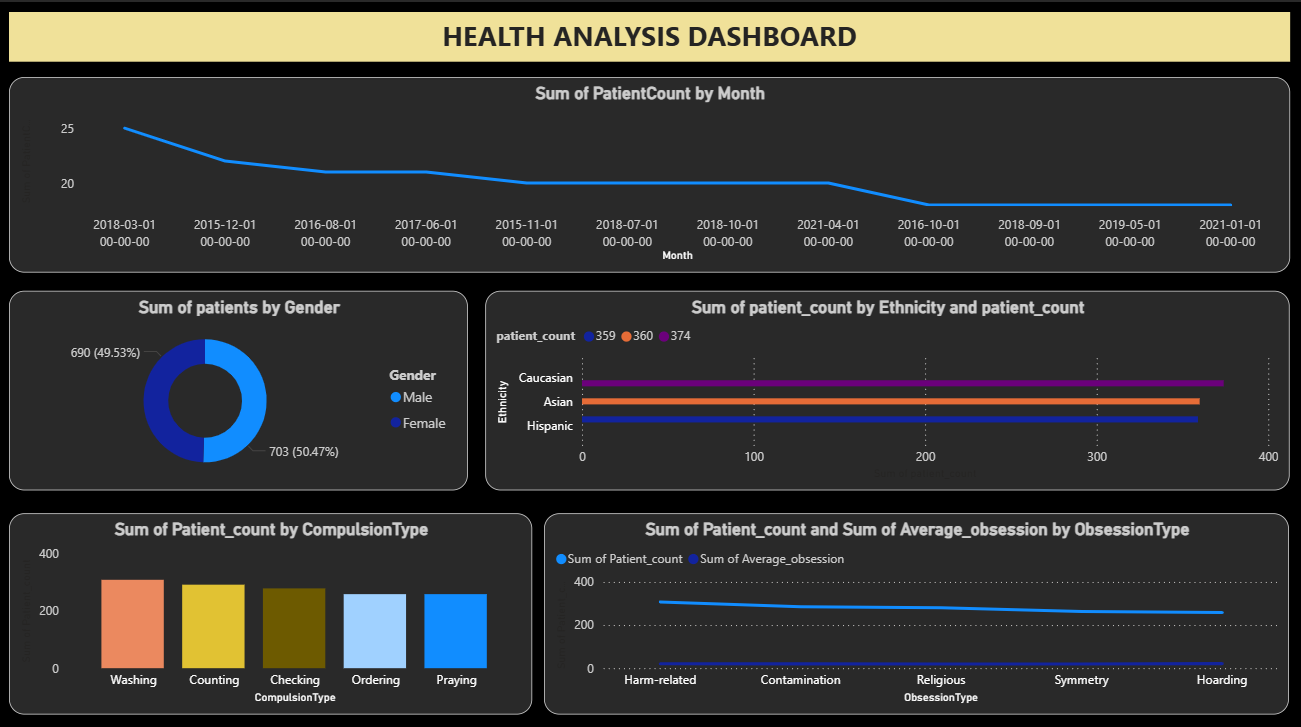

Layout of this report page (visuals, bound fields, positions):
{"tool":"powerbi","page":{"name":"Page 1","canvas":[1280,720],"ordinal":0},"visuals":[{"type":"textbox","box":[0,0,1280,48.6],"z":0},{"type":"lineChart","fields":{"Category":["diagnosis mom.Month"],"Y":["Sum(diagnosis mom.PatientCount)"]},"box":[4.3,58.6,1270,205.7],"z":1000},{"type":"donutChart","fields":{"Category":["gender.Gender"],"Y":["Sum(gender.patients)"]},"box":[10,284.3,428.6,207.1],"z":2000},{"type":"clusteredBarChart","fields":{"Category":["ethnicity.Ethnicity"],"Y":["Sum(ethnicity.patient_count)"],"Series":["ethnicity.patient_count"]},"box":[477.1,287.1,802.9,204.3],"z":3000},{"type":"columnChart","fields":{"Category":["compulsion_type.CompulsionType"],"Y":["Sum(compulsion_type.Patient_count)"]},"box":[23.3,501.7,511.7,206.7],"z":4000},{"type":"lineChart","fields":{"Category":["obs_type.ObsessionType"],"Y":["Sum(obs_type.Patient_count)","Sum(obs_type.Average_obsession)"]},"box":[535,502,745,207],"z":4001}]}

Visuals, with their boxes in screenshot pixels (x1, y1, x2, y2), scaled from the page's 1280x720 canvas onto the 1301x727 screenshot:
textbox: <box>0,0,1300,49</box>
lineChart - diagnosis mom.Month x Sum(diagnosis mom.PatientCount): <box>4,59,1295,267</box>
donutChart - gender.Gender x Sum(gender.patients): <box>10,287,446,496</box>
clusteredBarChart - ethnicity.Ethnicity x Sum(ethnicity.patient_count): <box>485,290,1300,496</box>
columnChart - compulsion_type.CompulsionType x Sum(compulsion_type.Patient_count): <box>24,507,544,715</box>
lineChart - obs_type.ObsessionType x Sum(obs_type.Patient_count): <box>544,507,1300,716</box>
